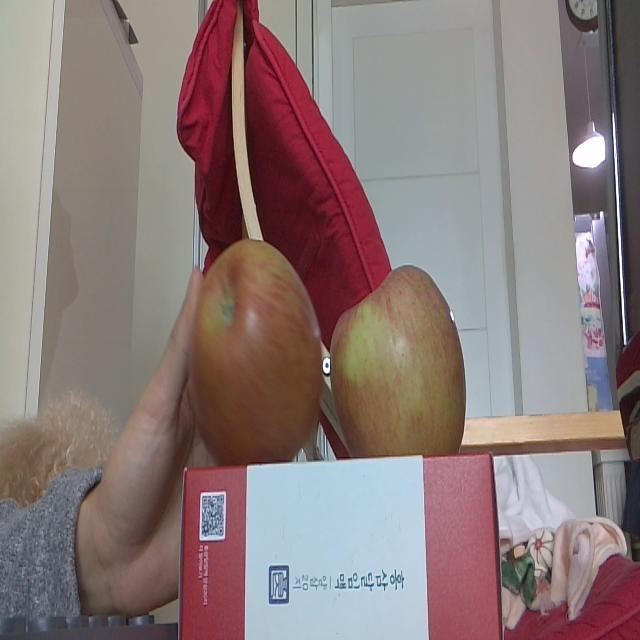apple: (188, 236, 322, 467), (331, 265, 467, 458)
